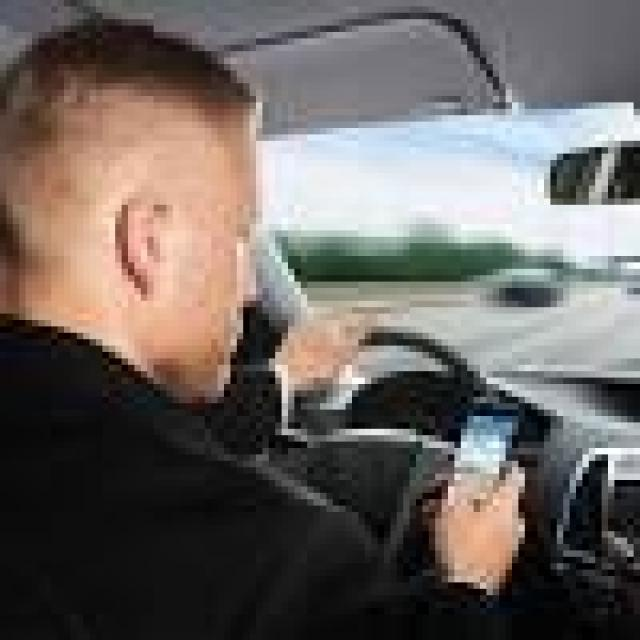Cellphone_texting: (429, 390, 544, 589)
